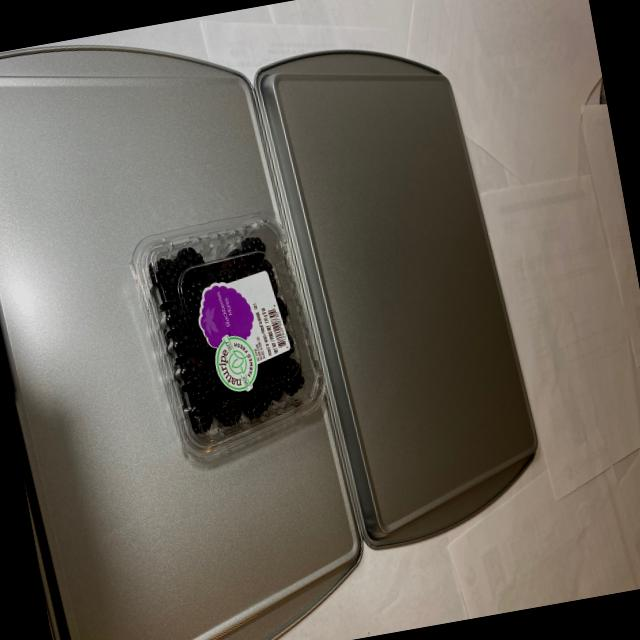blackberries: (144, 217, 332, 462)
